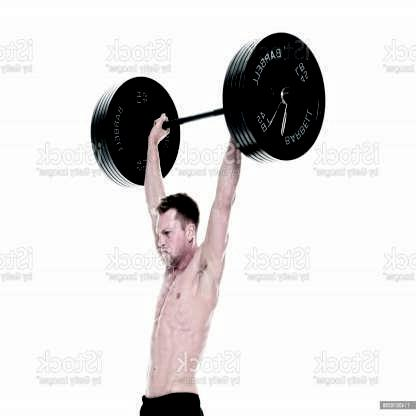Barbell: (274, 77, 303, 114)
